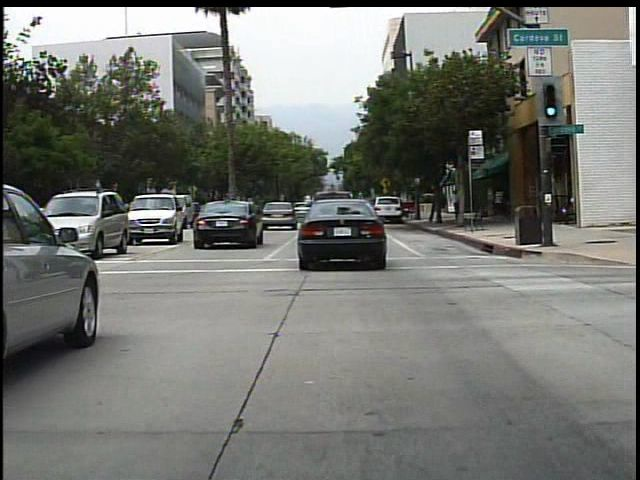person: (447, 186, 466, 224)
